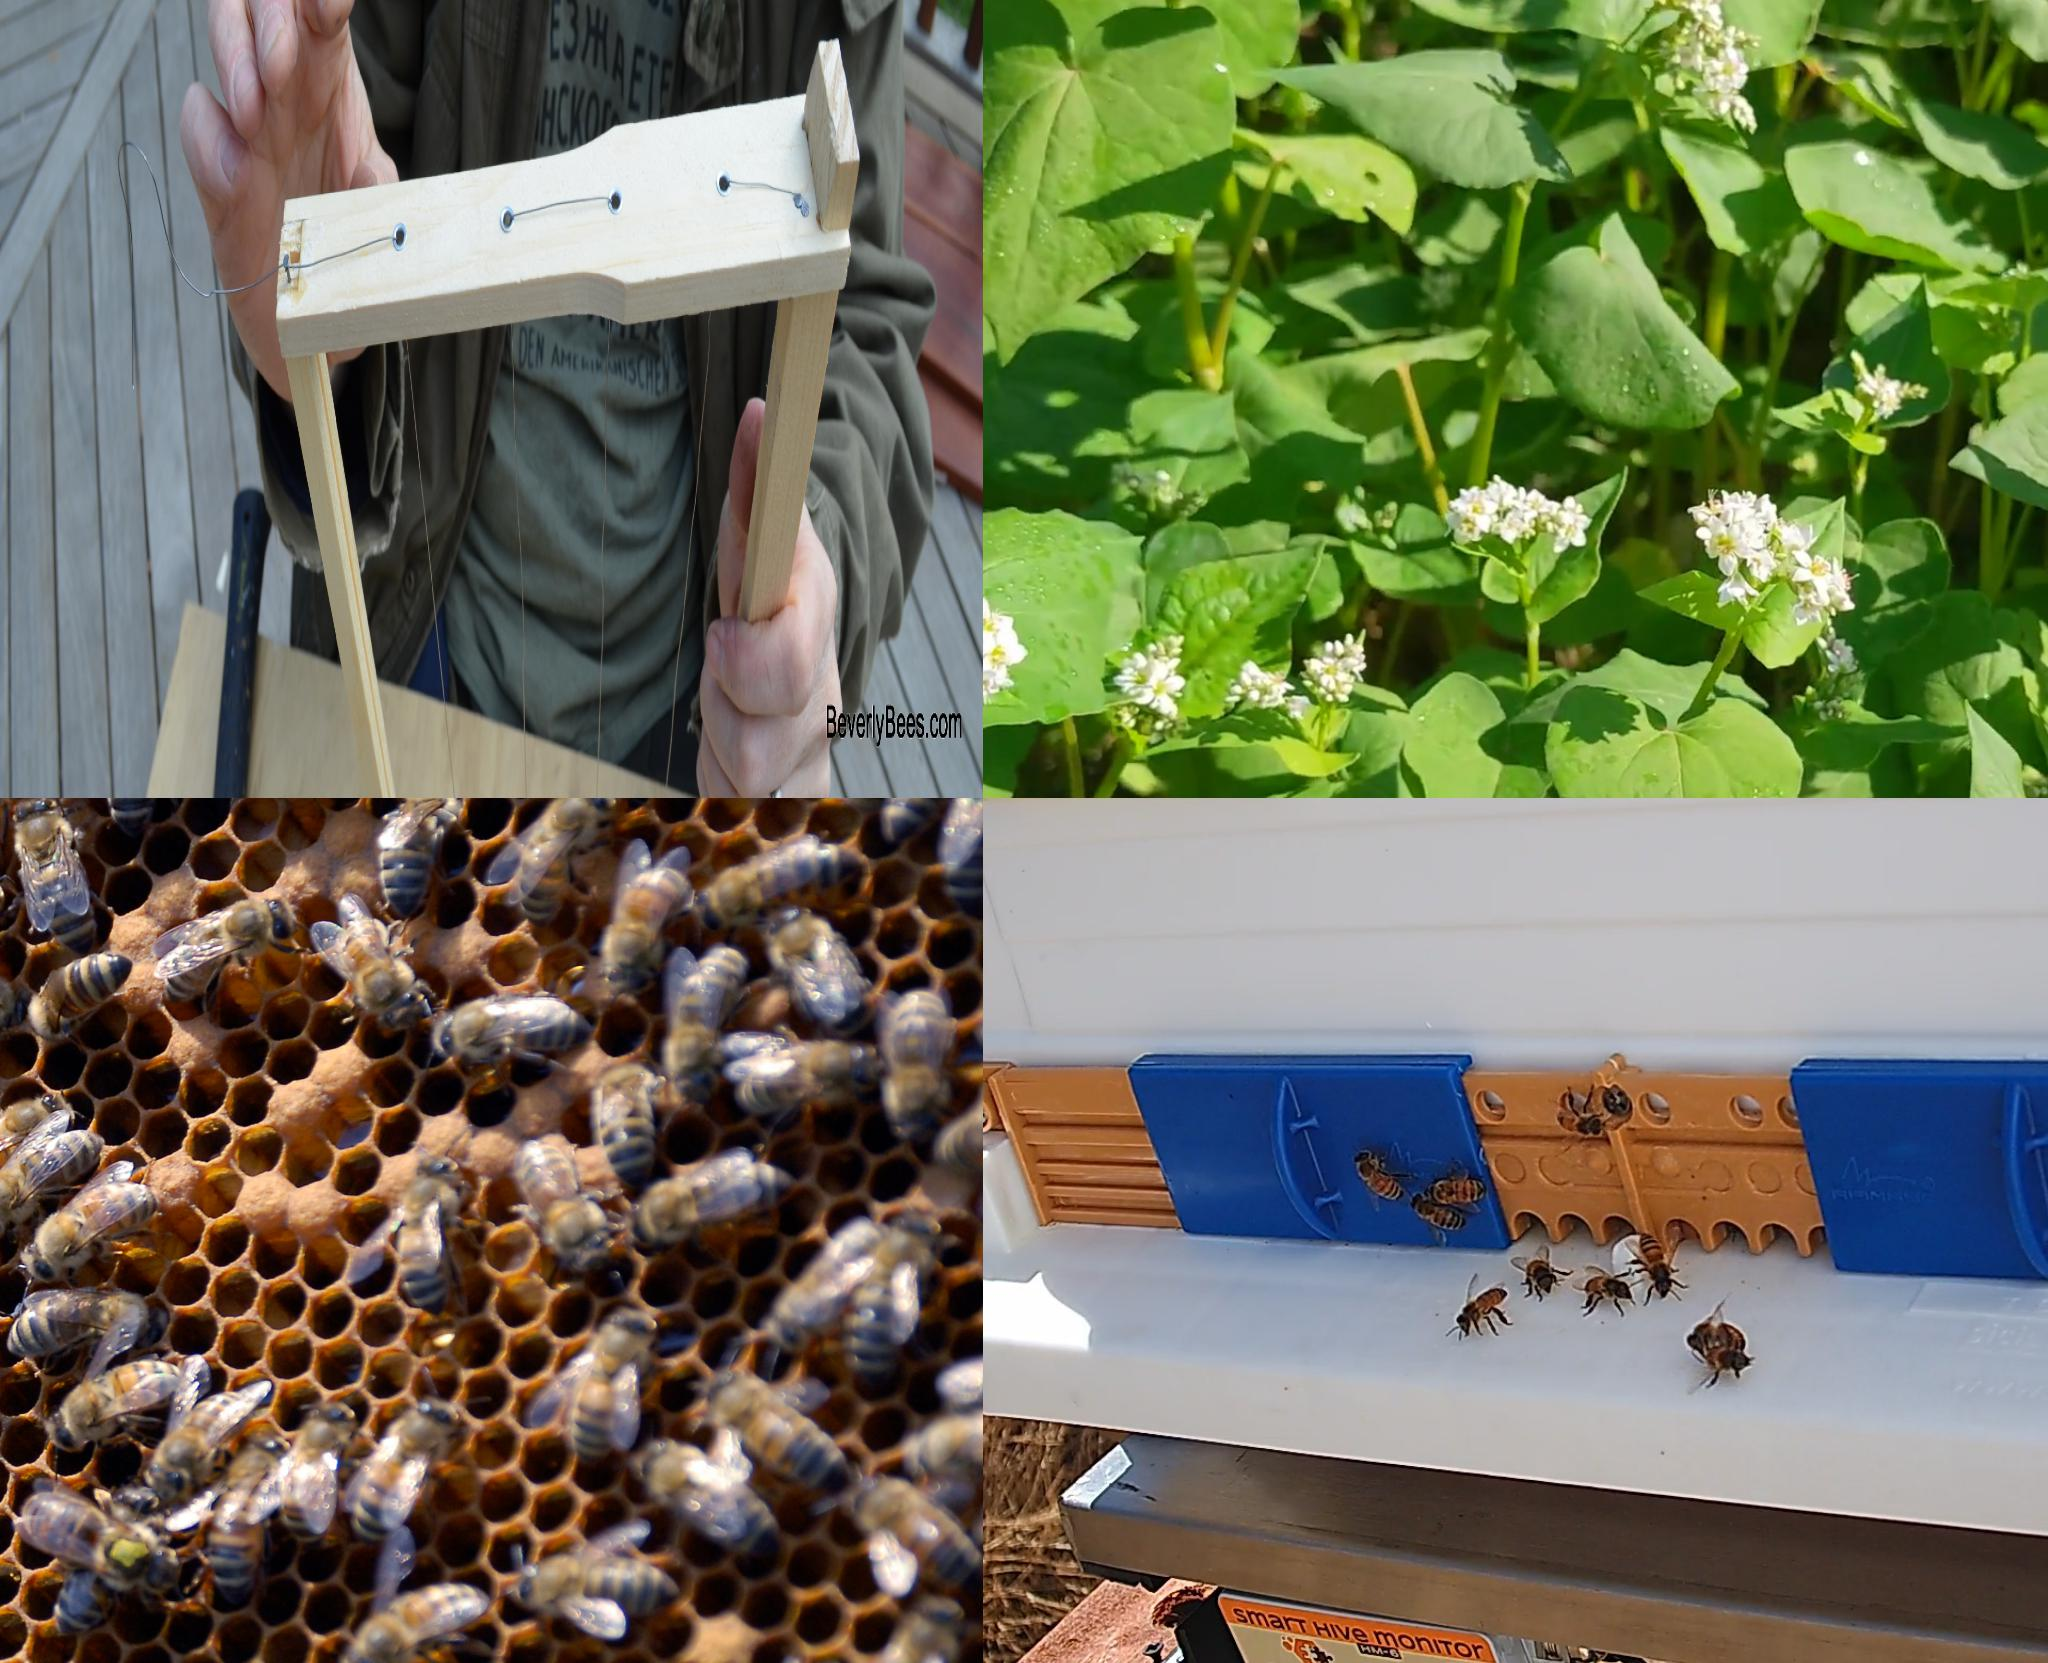bee: (709, 1373, 847, 1481), (350, 1402, 451, 1543), (852, 1217, 935, 1386), (643, 1442, 774, 1549), (696, 843, 860, 928), (859, 1480, 981, 1588), (628, 1162, 796, 1240), (772, 1223, 882, 1342), (165, 898, 292, 999), (48, 1359, 187, 1447), (209, 1436, 282, 1604), (58, 1493, 144, 1634), (14, 798, 92, 952), (670, 949, 748, 1101), (29, 1183, 156, 1274), (572, 1308, 650, 1458), (769, 908, 865, 1027), (521, 798, 607, 925), (0, 1130, 104, 1232), (519, 1137, 604, 1261), (355, 1583, 489, 1661), (148, 1391, 249, 1490), (606, 872, 685, 991), (736, 1045, 876, 1113), (282, 1405, 348, 1544), (523, 1558, 679, 1614), (382, 798, 455, 916), (0, 1100, 73, 1217), (400, 1157, 455, 1313), (29, 952, 132, 1032), (7, 1295, 148, 1352), (441, 998, 590, 1050), (893, 991, 942, 1135), (348, 920, 416, 1023), (601, 1066, 653, 1183), (937, 1062, 982, 1173), (886, 1600, 962, 1661), (943, 798, 982, 913), (889, 798, 981, 840), (916, 1415, 982, 1466), (107, 798, 175, 837), (1354, 1152, 1405, 1200), (1458, 1286, 1508, 1332), (1407, 1191, 1464, 1227), (1637, 1237, 1673, 1295), (1424, 1176, 1485, 1200), (1553, 1106, 1600, 1135), (1700, 1347, 1751, 1373), (1581, 1278, 1631, 1303), (1692, 1322, 1739, 1344), (1525, 1256, 1551, 1291)
queen: (22, 1493, 180, 1597)
